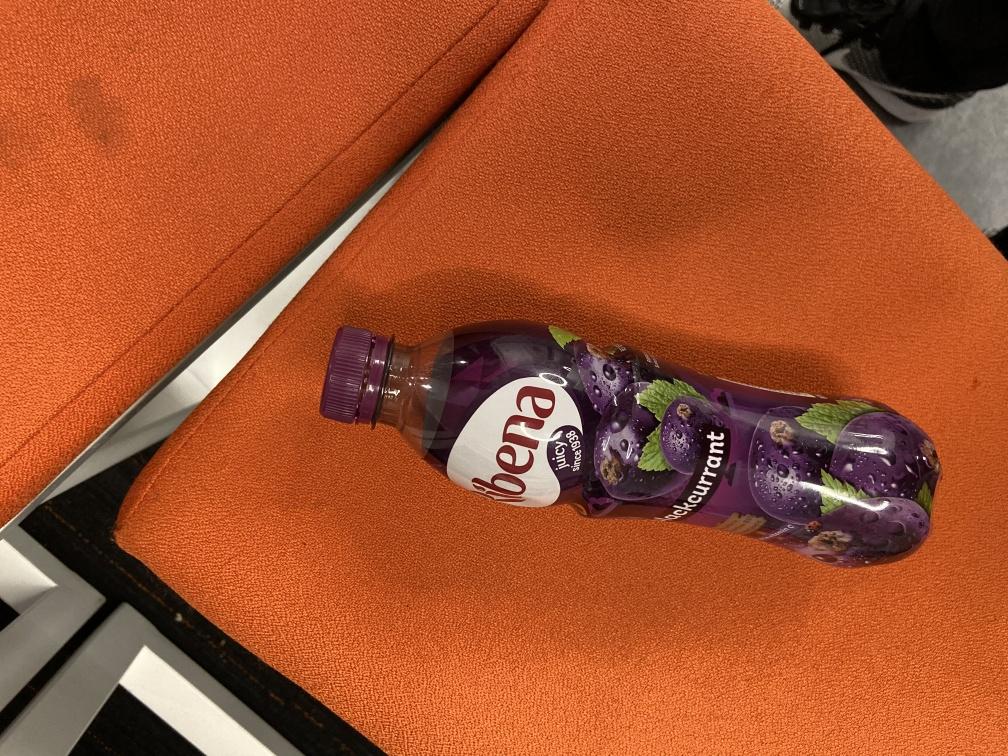bottle_purple: (316, 313, 945, 572)
